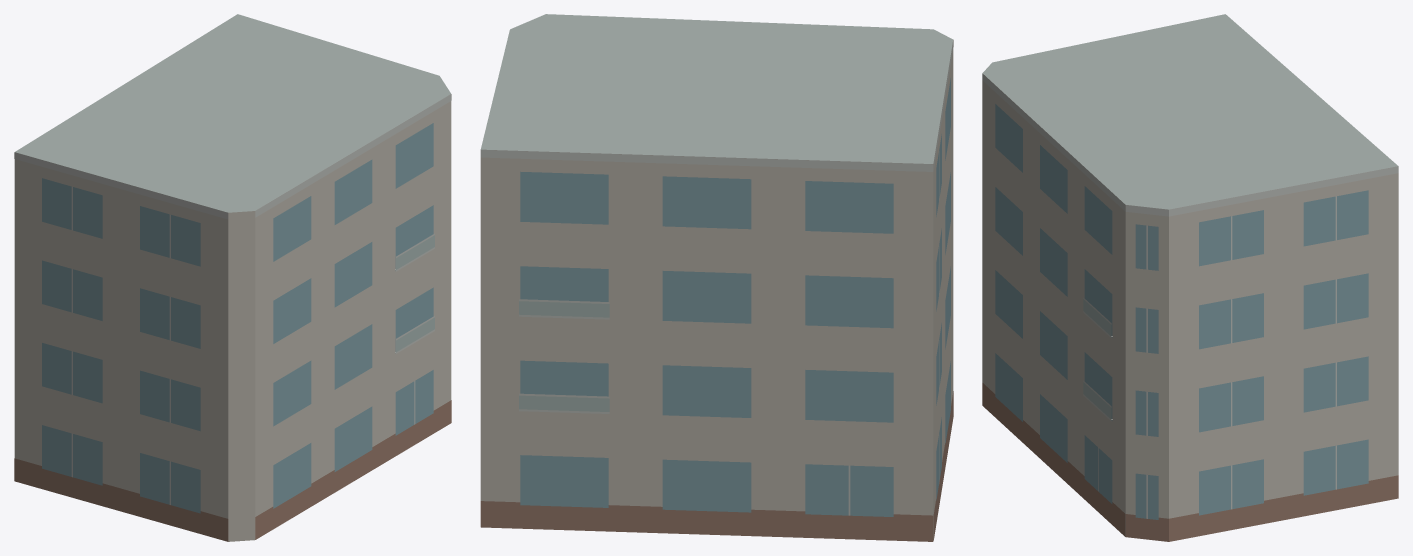
The model's file is survey-upis-32641462.glb.
The picture shows the model from 3 angles, left to right: view 1: azimuth 30°, elevation 25°; view 2: azimuth 150°, elevation 25°; view 3: azimuth 270°, elevation 25°; orthographic projection. The views are drawn at different scales.
Parts seen in each view (by area): view 1: survey-upis-32641462.tmp; view 2: survey-upis-32641462.tmp; view 3: survey-upis-32641462.tmp.
Part boxes in pixels (<box>): survey-upis-32641462.tmp: <box>14,14,451,541</box>; survey-upis-32641462.tmp: <box>480,14,953,541</box>; survey-upis-32641462.tmp: <box>982,14,1398,541</box>.
Size of the model in its own units: 14.65 by 11.6 by 13.18.
